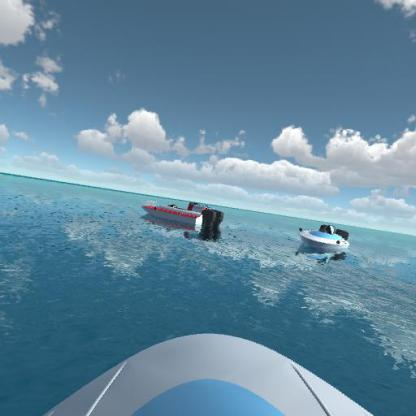usv1: (295, 222, 354, 262)
usv3: (143, 200, 225, 242)
